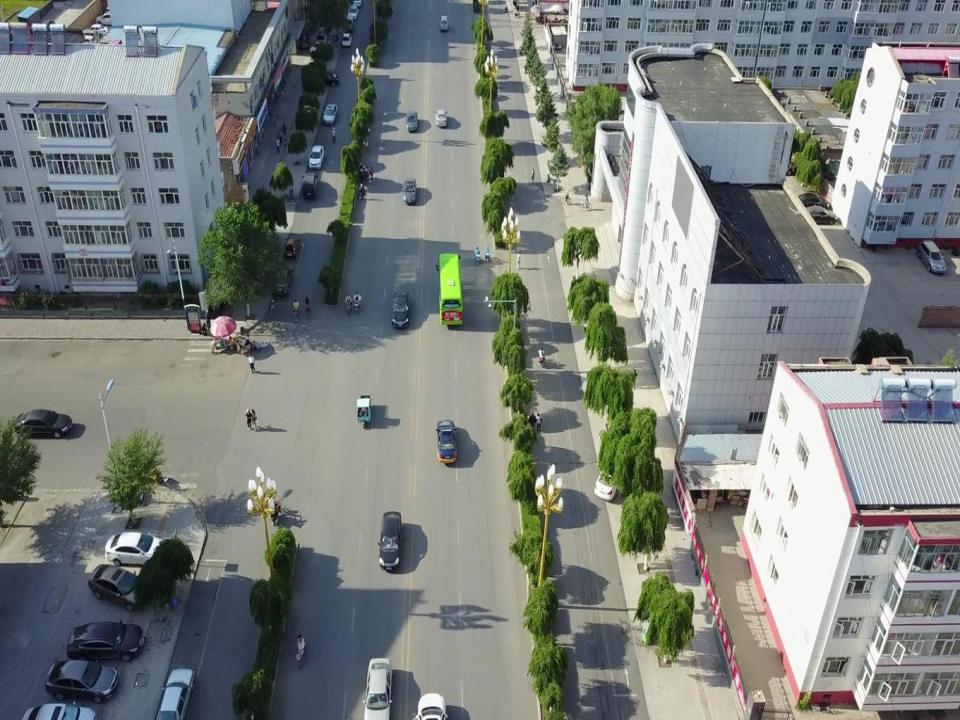bus: (436, 252, 464, 327)
car: (66, 618, 146, 662), (44, 660, 118, 704), (88, 564, 151, 612), (104, 530, 169, 568), (154, 667, 195, 720), (362, 657, 393, 720), (594, 454, 634, 502), (14, 408, 73, 440), (377, 510, 402, 574), (21, 703, 98, 720), (917, 237, 947, 274), (435, 419, 457, 464), (414, 692, 448, 720), (796, 205, 839, 226), (390, 289, 410, 328), (789, 192, 830, 211), (272, 264, 294, 298), (301, 173, 319, 200), (80, 23, 108, 40), (95, 8, 120, 26), (401, 178, 417, 206), (316, 70, 340, 88), (284, 236, 301, 260), (308, 144, 324, 169), (309, 40, 331, 56), (405, 108, 419, 133), (322, 103, 337, 126), (434, 109, 448, 127), (343, 13, 354, 33), (300, 26, 308, 52), (340, 31, 352, 47), (348, 4, 359, 20)
van: (73, 33, 96, 48), (439, 14, 450, 31)
